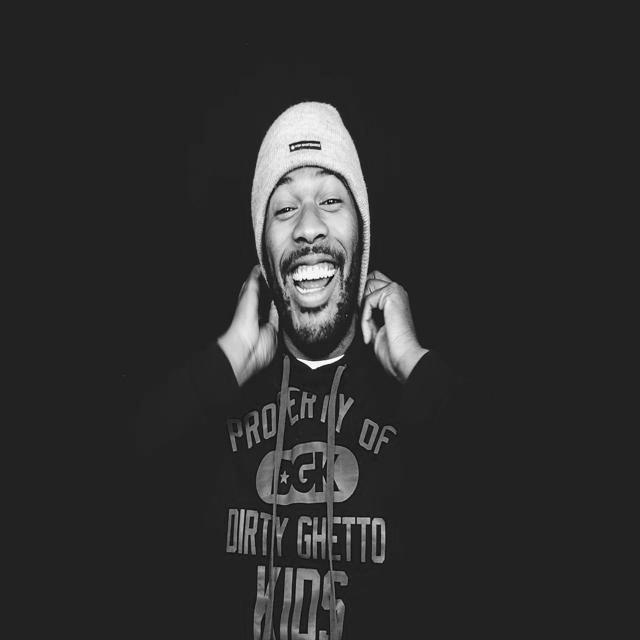Happiness: (258, 163, 367, 352)
